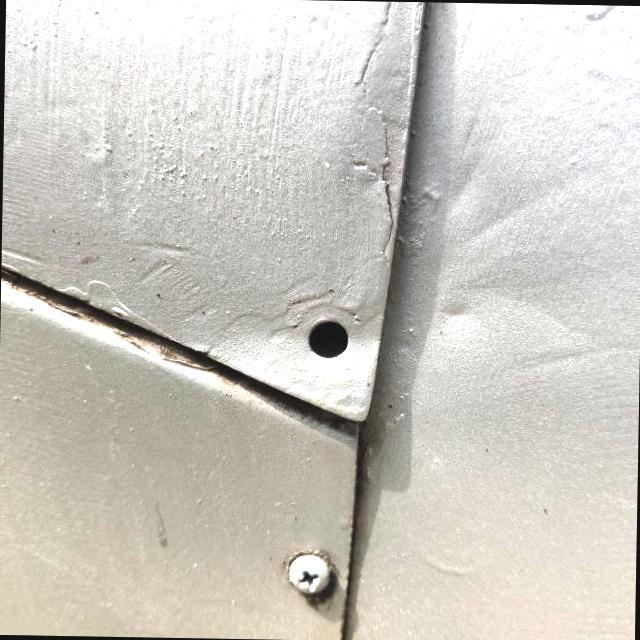Missing Fastener: (308, 320, 347, 358)
